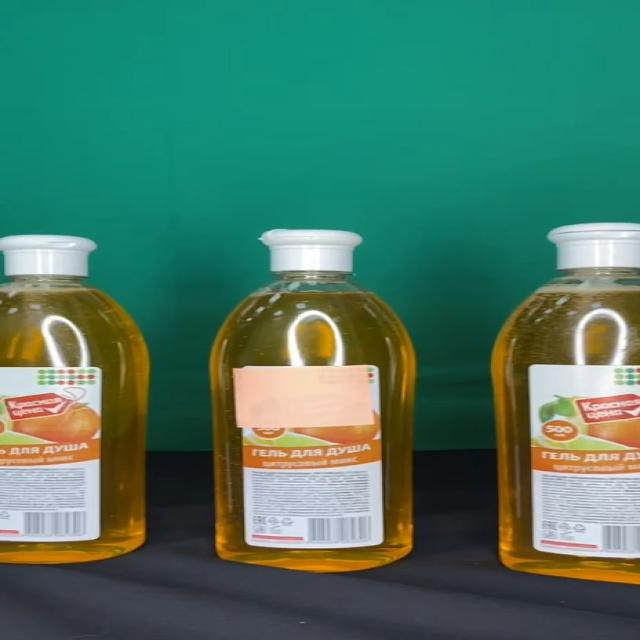Bottle: (208, 230, 418, 572), (0, 234, 153, 564)
Cap: (260, 230, 364, 272), (0, 235, 97, 276)
